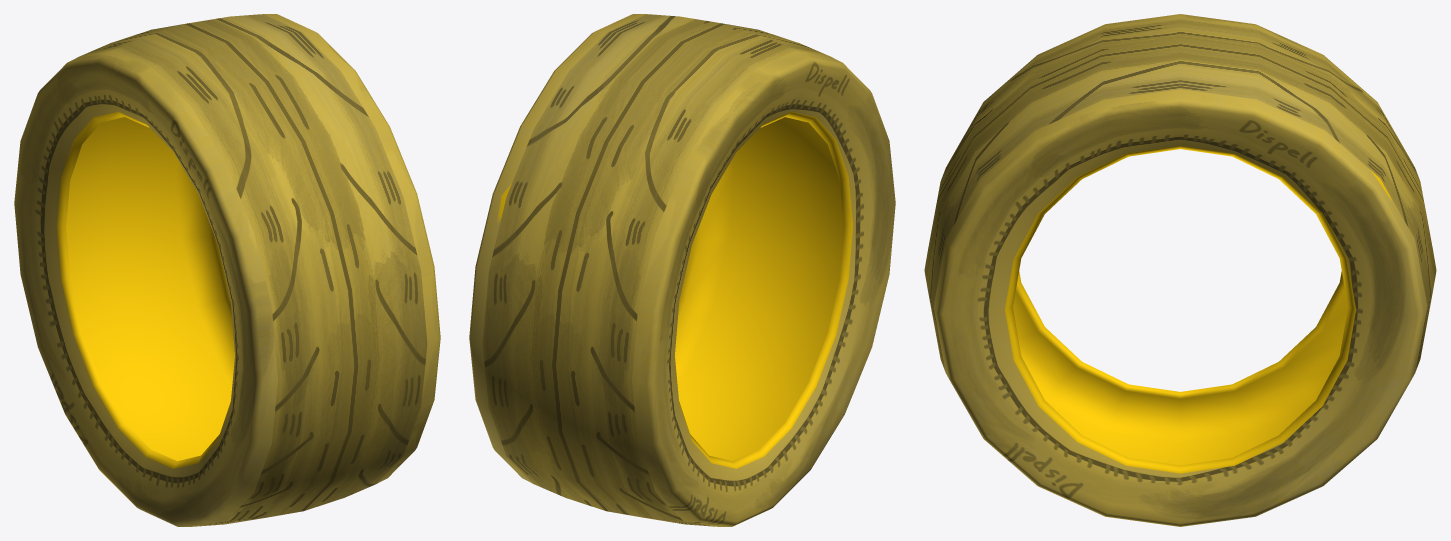
The model's file is wheel_yellow.fbx.
3 views of the same model, side by side, from view 1: azimuth 30°, elevation 25°; view 2: azimuth 150°, elevation 25°; view 3: azimuth 270°, elevation 25° (orthographic).
Parts seen in each view (by area): view 1: wheel_yellow; view 2: wheel_yellow; view 3: wheel_yellow.
Boxes of the visible parts, <box> form: wheel_yellow: <box>14,14,440,526</box>; wheel_yellow: <box>469,14,895,526</box>; wheel_yellow: <box>924,14,1436,526</box>.
Size of the model in its own units: 0.4002 by 0.9448 by 0.9734.
